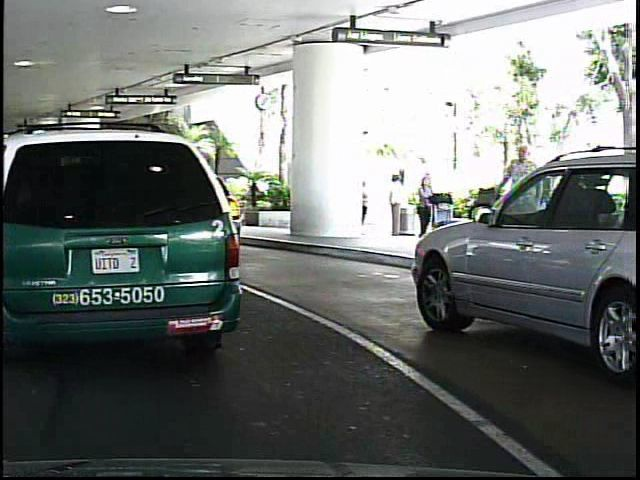person: (491, 136, 545, 275), (408, 168, 438, 238)
